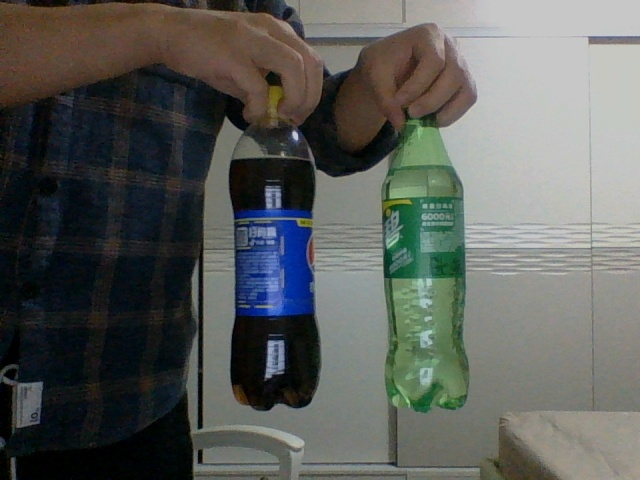Cola: (229, 87, 322, 409)
Sprite: (381, 106, 471, 411)
